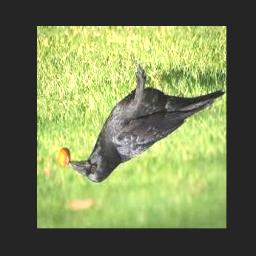Crow: (68, 64, 226, 184)
